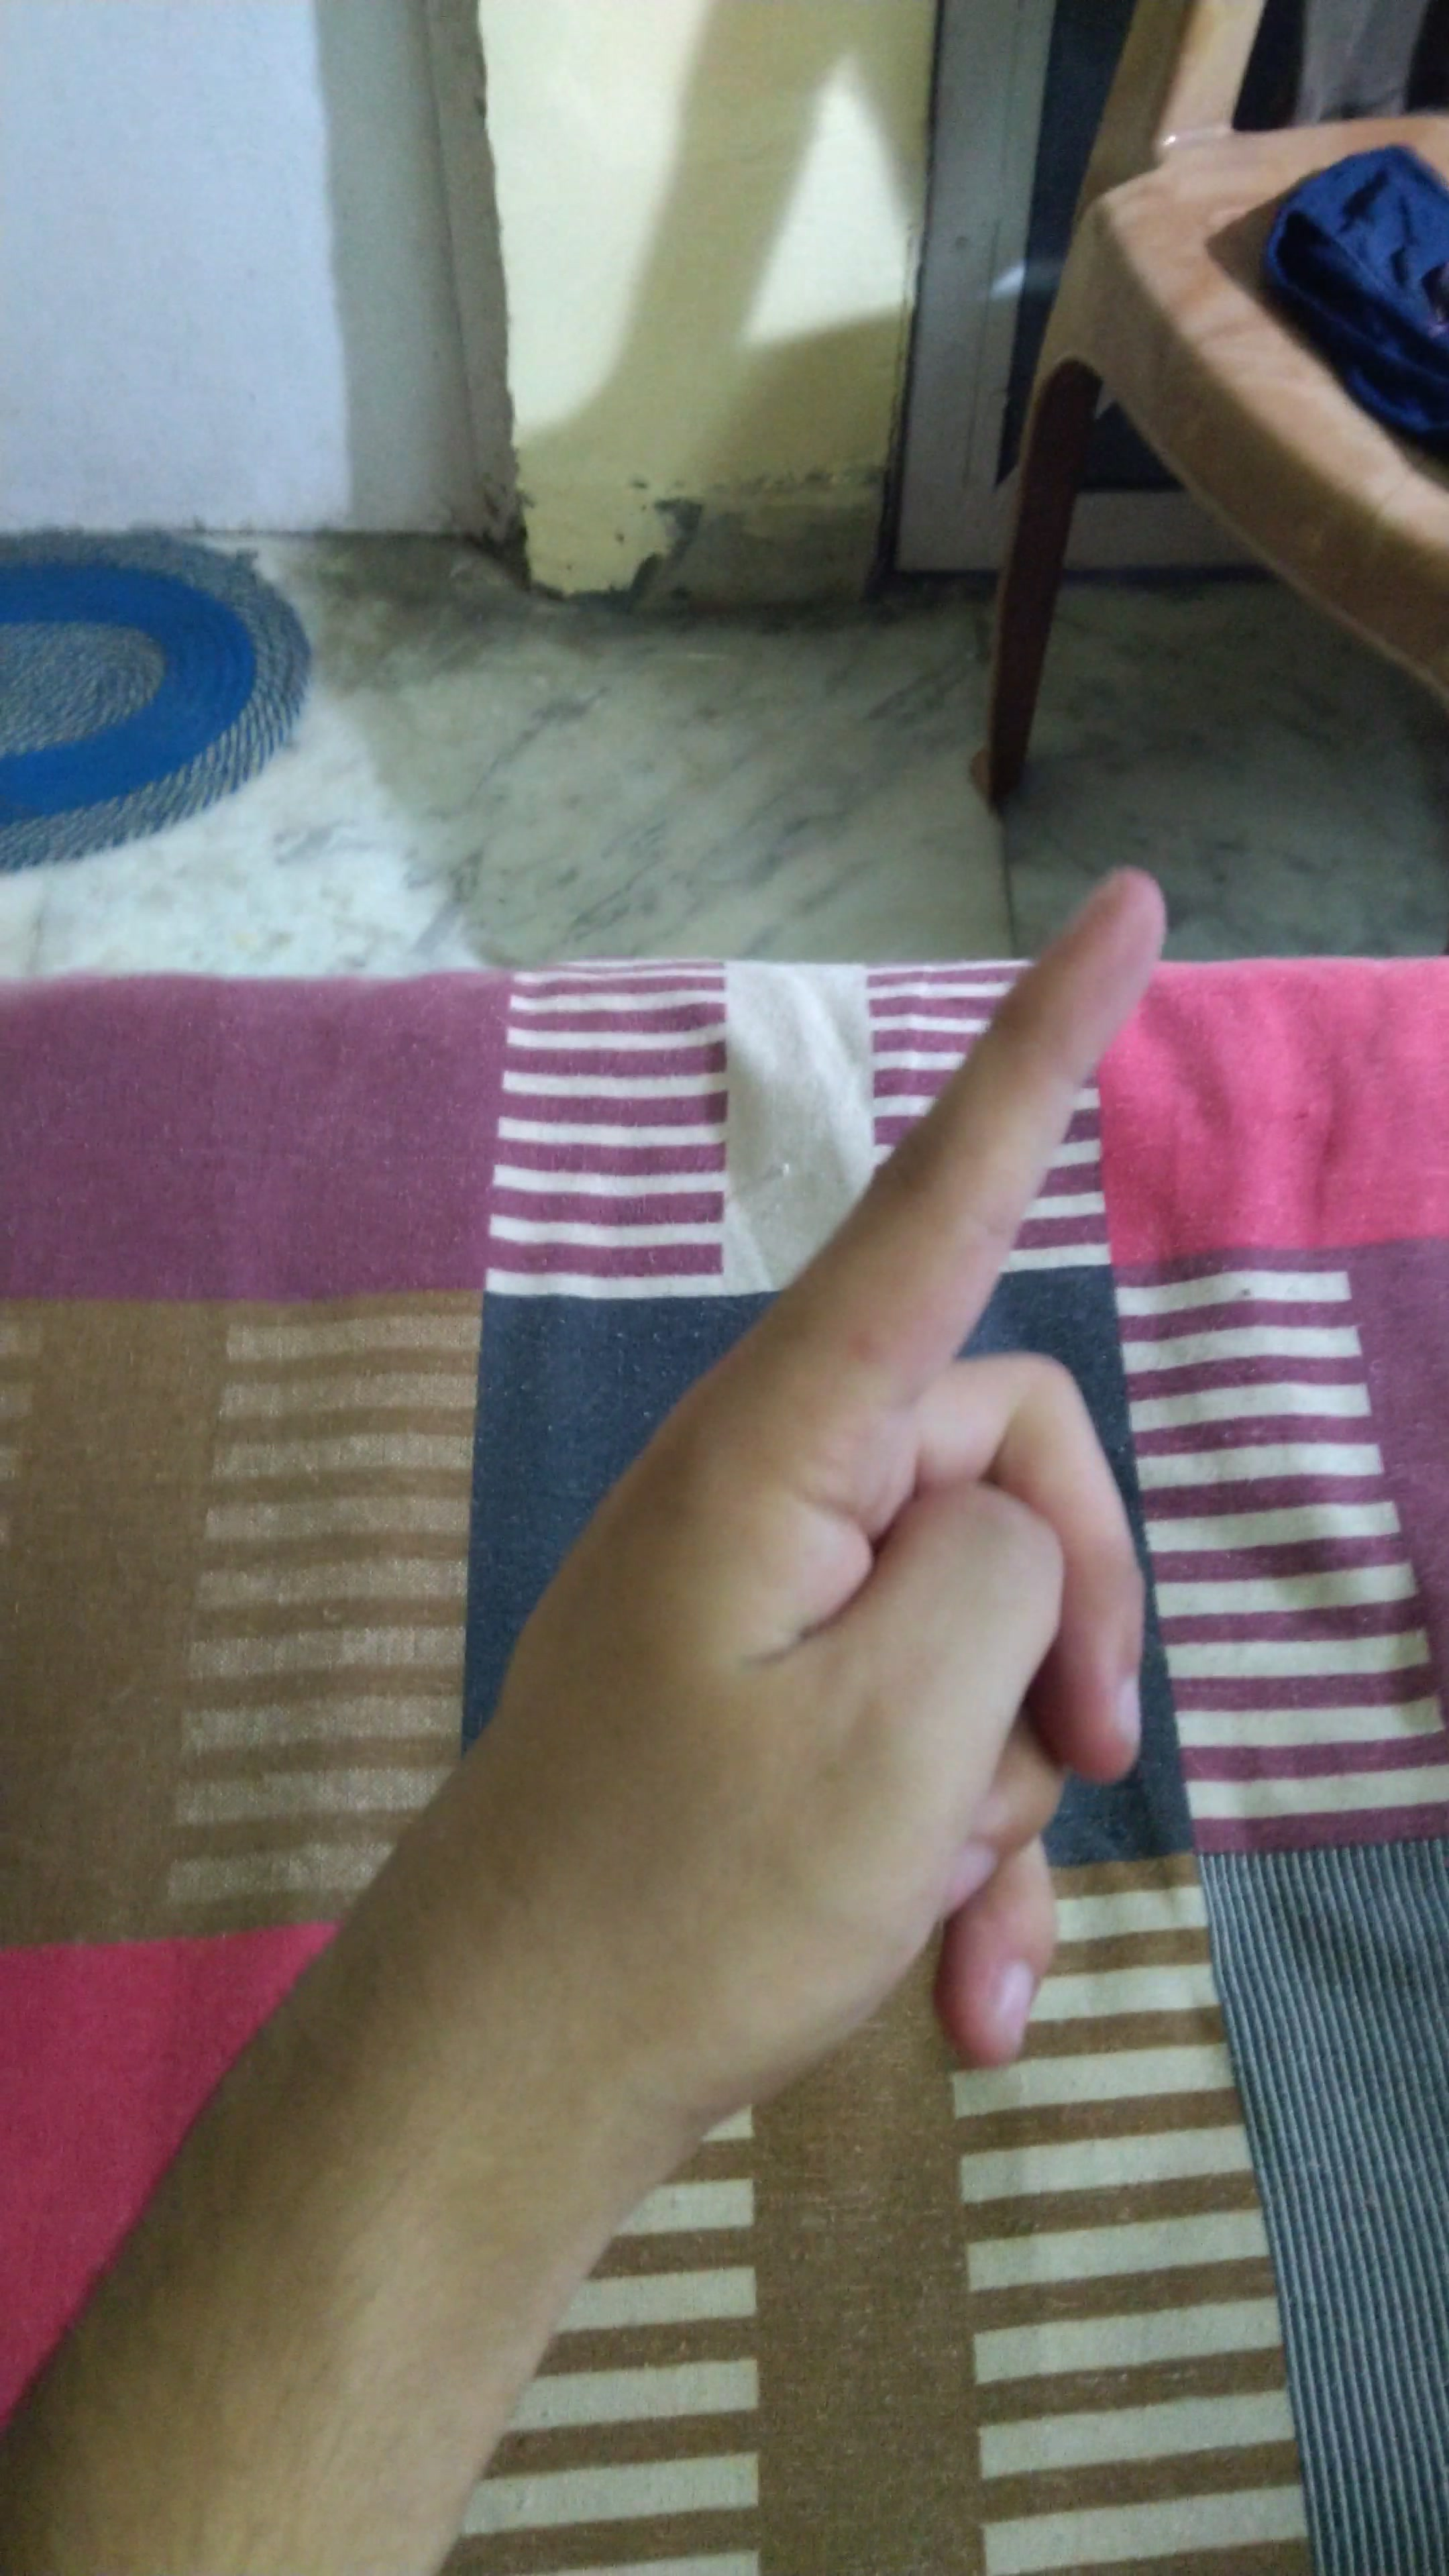hand: (364, 830, 1251, 2180)
